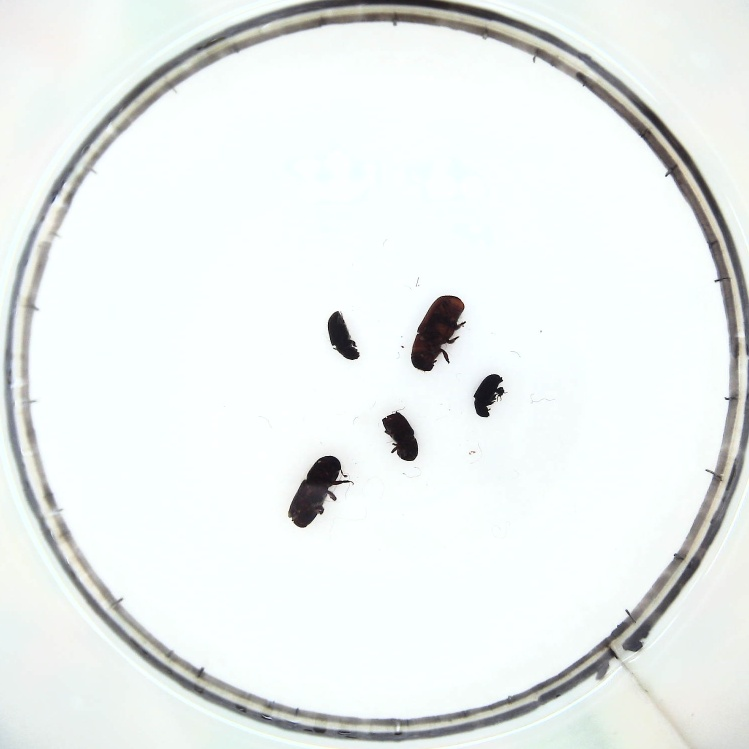armandi: (327, 310, 360, 361)
boerner: (290, 455, 344, 527)
coleoptera: (475, 372, 505, 419)
leconte: (412, 294, 465, 370)
linnaeus: (381, 411, 420, 460)
